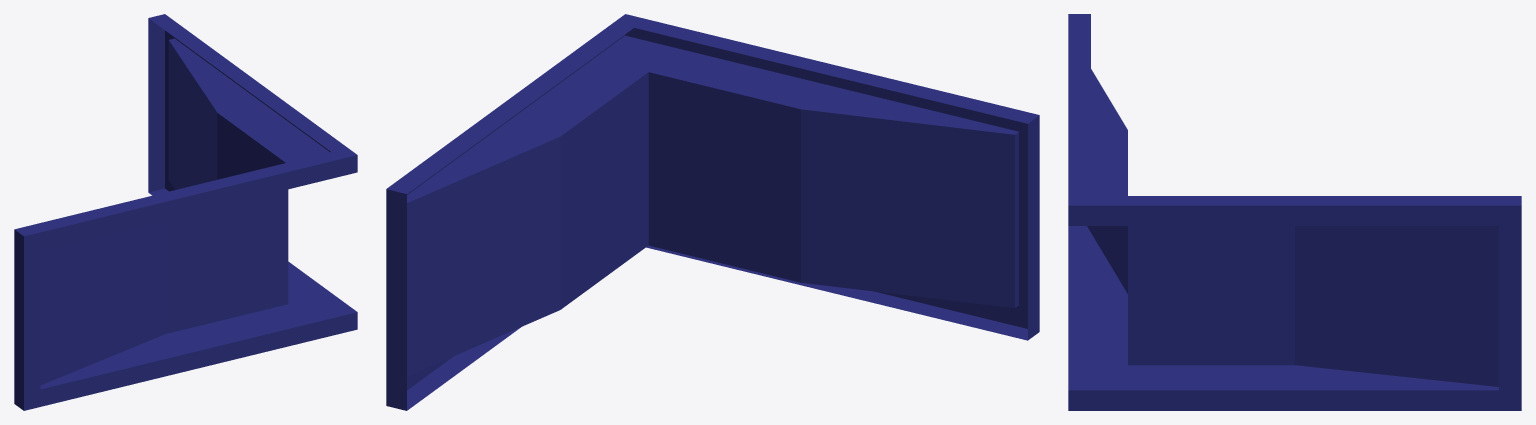
File: Wall_4x1m_A_Turn_Out.FBX
The picture shows the model from 3 angles, left to right: view 1: azimuth 30°, elevation 25°; view 2: azimuth 150°, elevation 25°; view 3: azimuth 270°, elevation 25°; orthographic projection. The views are drawn at different scales.
Parts seen in each view (by area): view 1: Wall_4x1m_A_Turn_Out; view 2: Wall_4x1m_A_Turn_Out; view 3: Wall_4x1m_A_Turn_Out.
Part boxes in pixels (x1,y1,x2,y2): Wall_4x1m_A_Turn_Out: [14, 14, 357, 410]; Wall_4x1m_A_Turn_Out: [386, 14, 1039, 410]; Wall_4x1m_A_Turn_Out: [1068, 14, 1521, 410].
Bounding box in the file's own units: 200 × 100 × 200.
